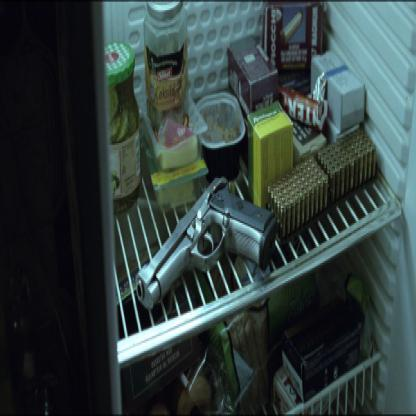Guns: (128, 157, 280, 316)
